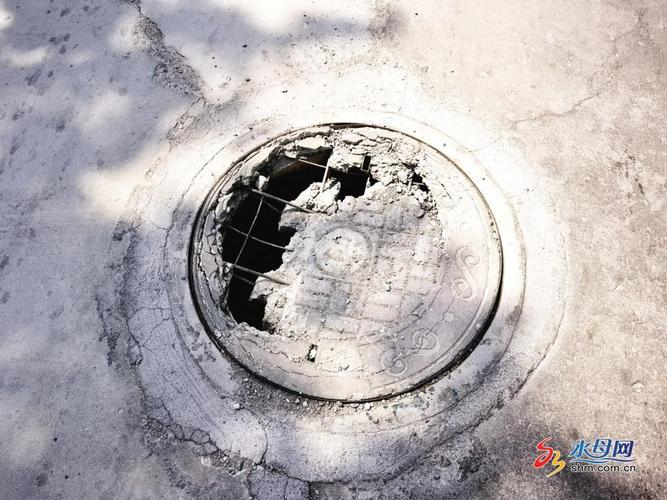broke: (95, 92, 589, 465)
